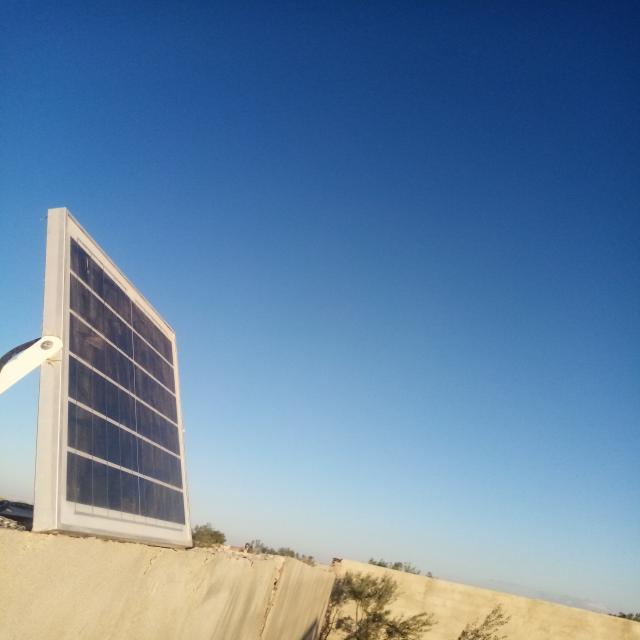faulty: (57, 210, 192, 545)
